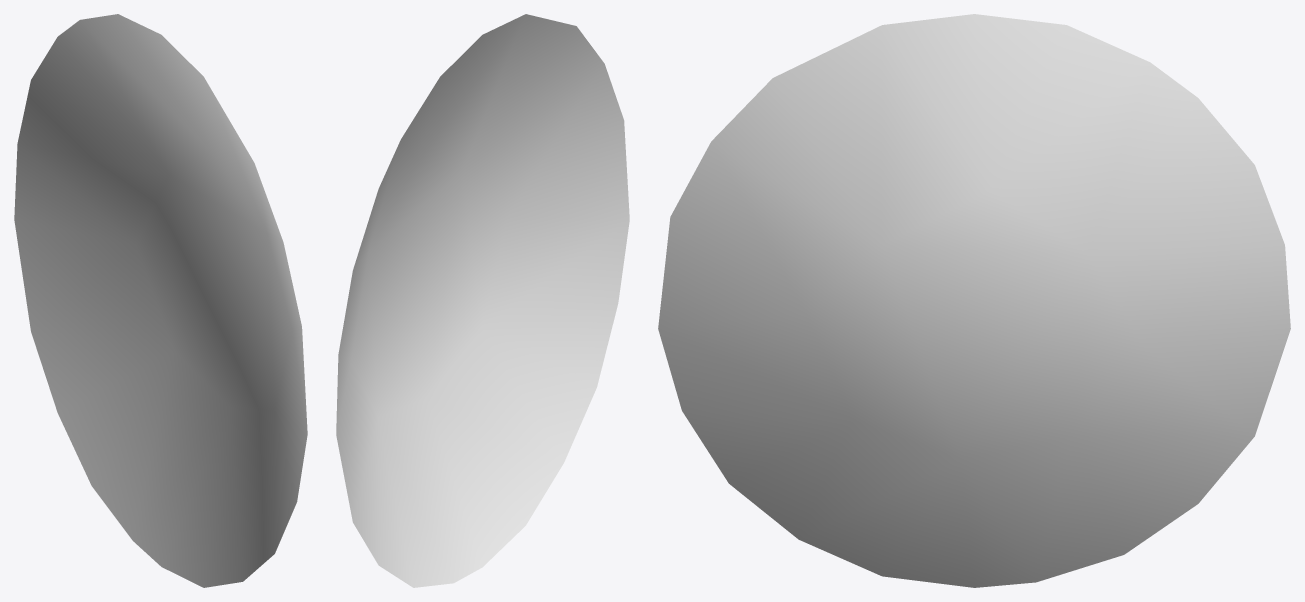
3 views of the same model, side by side, from view 1: azimuth 30°, elevation 25°; view 2: azimuth 150°, elevation 25°; view 3: azimuth 270°, elevation 25° (orthographic). The views are drawn at different scales.
Size of the model in its own units: 0.0316 by 0.2531 by 0.2528.
Materials: 1 (1 with a texture image).
